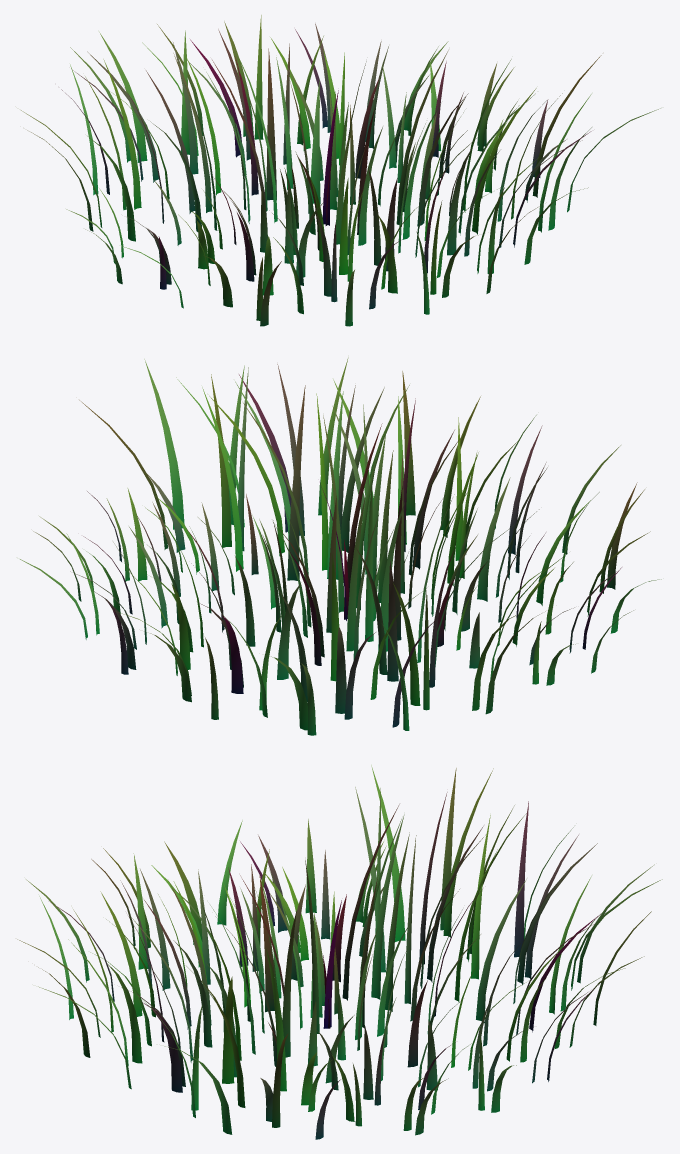
File: grass.glb
3 renders of one model, top to bottom at view 1: azimuth 30°, elevation 25°; view 2: azimuth 150°, elevation 25°; view 3: azimuth 270°, elevation 25°, orthographic. The views are drawn at different scales.
Parts seen in each view (by area): view 1: Grass; view 2: Grass; view 3: Grass.
Boxes of the visible parts, x1,y1,x2,y2 form: Grass: [21, 15, 660, 326]; Grass: [20, 357, 661, 735]; Grass: [17, 765, 662, 1139].
Bounding box in the file's own units: 1.19 × 0.3802 × 1.19.
